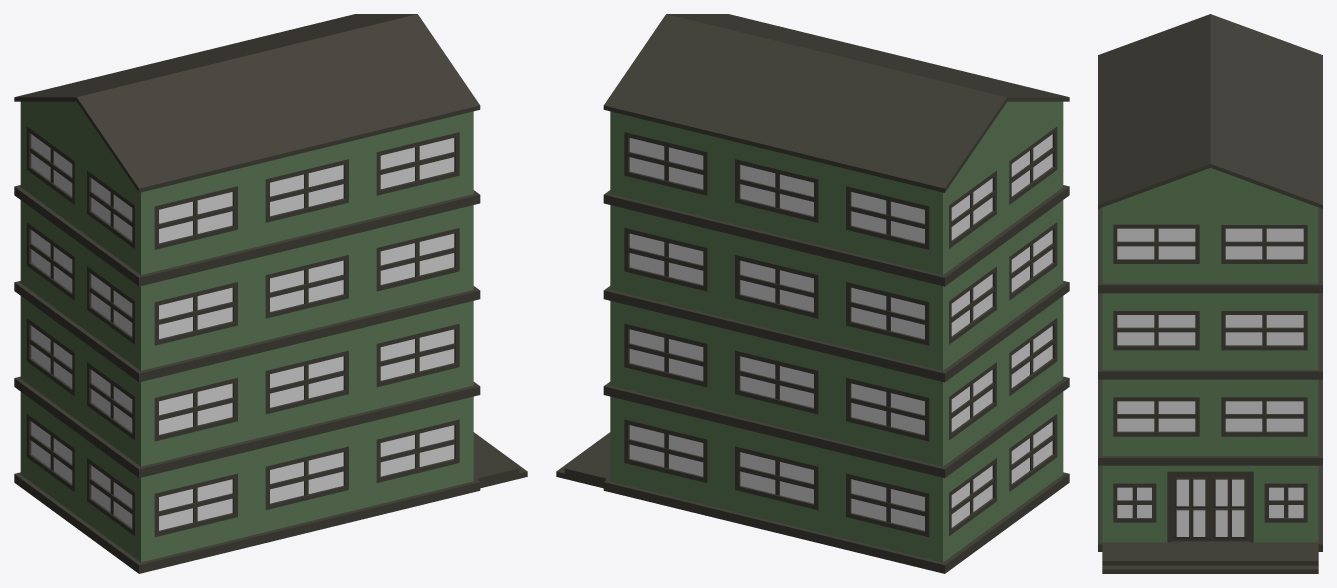
Rendered from medium building 9.fbx.
3 renders of one model, left to right at view 1: azimuth 30°, elevation 25°; view 2: azimuth 150°, elevation 25°; view 3: azimuth 270°, elevation 25°, orthographic. The views are drawn at different scales.
Parts seen in each view (by area): view 1: building_001; view 2: building_001; view 3: building_001.
Boxes of the visible parts, box(x1,y1,x2,y2) form: building_001: box(14, 14, 527, 573); building_001: box(556, 14, 1069, 573); building_001: box(1098, 14, 1322, 573).
Size of the model in its own units: 940 by 990 by 520.
